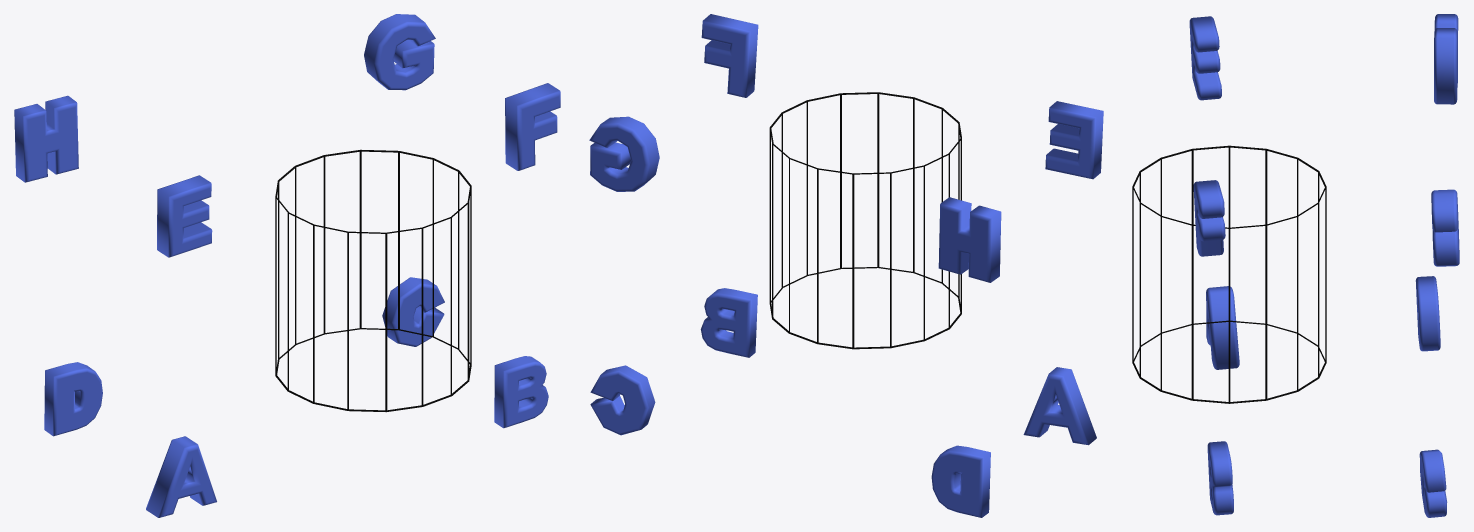
The model's file is tabung8.glb.
The picture shows the model from 3 angles, left to right: view 1: azimuth 30°, elevation 25°; view 2: azimuth 150°, elevation 25°; view 3: azimuth 270°, elevation 25°; orthographic projection. The views are drawn at different scales.
Visible parts, largest first — view 1: Cylinder, Text.007, Text.006, Text.004, Text.003, Text.005, Text.009, Text.001, Text.002; view 2: Cylinder, Text.007, Text.006, Text.004, Text.003, Text.005, Text.002, Text.001, Text.009; view 3: Cylinder, Text.009, Text.004, Text.007, Text.005, Text.006, Text.001, Text.003, Text.002.
Boxes of the visible parts, x1=… form: Cylinder: x1=275, y1=149, x2=471, y2=412; Text.007: x1=14, y1=95, x2=78, y2=182; Text.006: x1=364, y1=14, x2=435, y2=90; Text.004: x1=157, y1=175, x2=212, y2=257; Text.003: x1=44, y1=362, x2=102, y2=436; Text.005: x1=505, y1=83, x2=560, y2=170; Text.009: x1=146, y1=436, x2=216, y2=517; Text.001: x1=494, y1=356, x2=548, y2=428; Text.002: x1=382, y1=277, x2=444, y2=346; Cylinder: x1=769, y1=92, x2=961, y2=349; Text.007: x1=938, y1=197, x2=1001, y2=282; Text.006: x1=589, y1=116, x2=659, y2=191; Text.004: x1=1045, y1=101, x2=1103, y2=179; Text.003: x1=931, y1=445, x2=990, y2=517; Text.005: x1=701, y1=14, x2=758, y2=97; Text.002: x1=590, y1=365, x2=655, y2=435; Text.001: x1=700, y1=288, x2=757, y2=357; Text.009: x1=1023, y1=367, x2=1096, y2=445; Cylinder: x1=1132, y1=145, x2=1326, y2=403; Text.009: x1=1206, y1=286, x2=1239, y2=369; Text.004: x1=1189, y1=16, x2=1221, y2=100; Text.007: x1=1434, y1=14, x2=1458, y2=104; Text.005: x1=1193, y1=180, x2=1225, y2=256; Text.006: x1=1431, y1=189, x2=1459, y2=266; Text.001: x1=1207, y1=441, x2=1233, y2=515; Text.003: x1=1415, y1=276, x2=1440, y2=351; Text.002: x1=1419, y1=449, x2=1447, y2=517.
Bounding box in the file's own units: 4.9 × 3.77 × 3.39.
